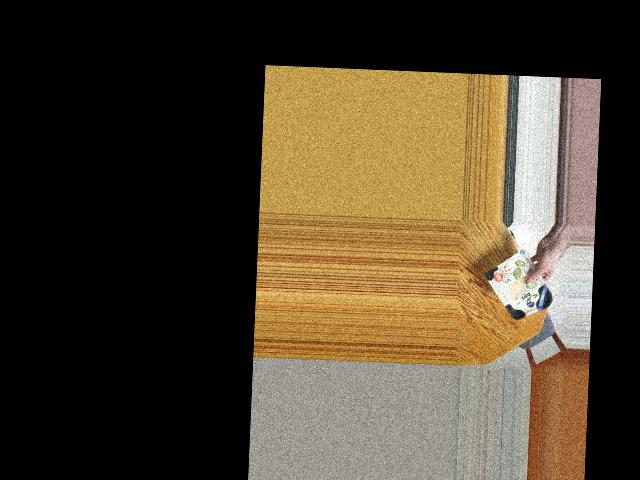cheese: (487, 259, 558, 318)
